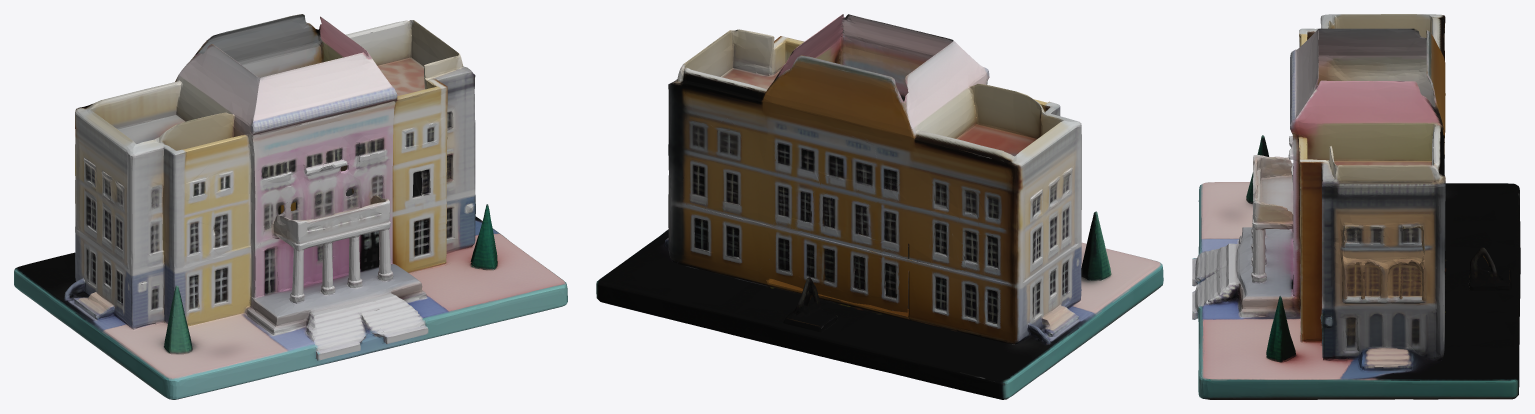
File: library.glb
3 views of the same model, side by side, from view 1: azimuth 30°, elevation 25°; view 2: azimuth 150°, elevation 25°; view 3: azimuth 270°, elevation 25° (orthographic). The views are drawn at different scales.
Parts seen in each view (by area): view 1: world; view 2: world; view 3: world.
Part boxes in pixels (x1,y1,x2,y2): world: (14, 14, 567, 399); world: (596, 14, 1163, 399); world: (1192, 14, 1520, 399).
Size of the model in its own units: 1 by 0.5877 by 0.6986.
1 material, 1 textured.
